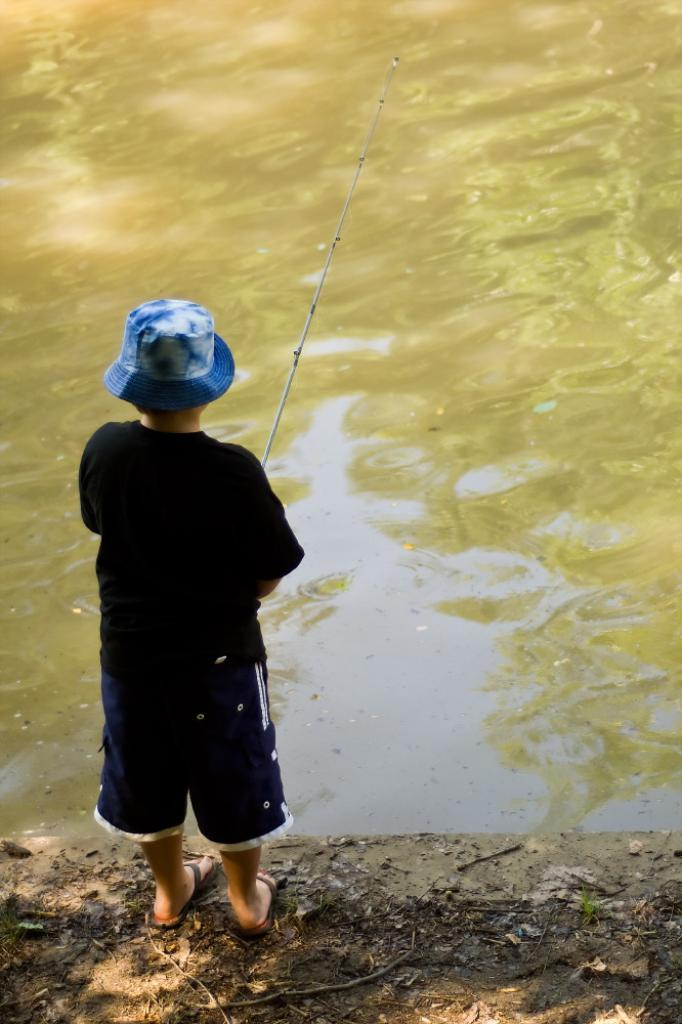Hat: (101, 291, 236, 405)
